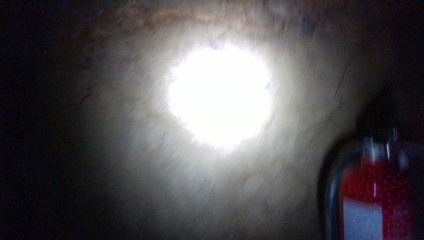fire_extinguisher: (317, 80, 421, 238)
